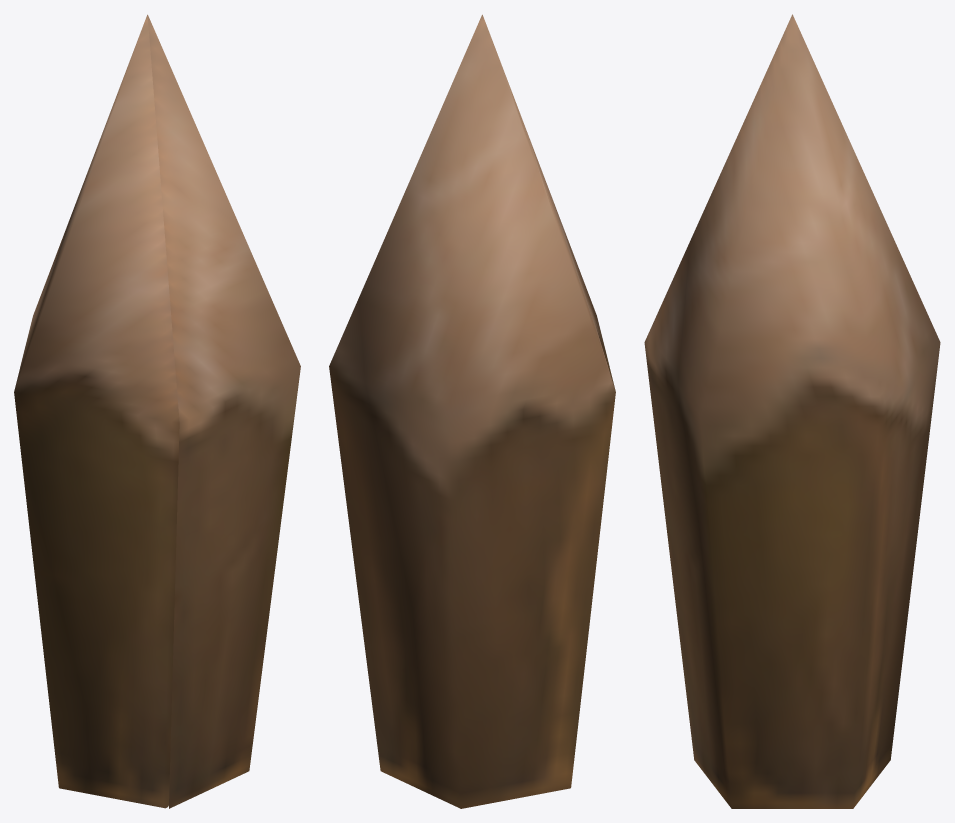
The model's file is desert_fence.FBX.
The picture shows the model from 3 angles, left to right: view 1: azimuth 30°, elevation 25°; view 2: azimuth 150°, elevation 25°; view 3: azimuth 270°, elevation 25°; orthographic projection.
Visible parts, largest first — view 1: Object099; view 2: Object099; view 3: Object099.
Part boxes in pixels (<box>): Object099: <box>14,14,300,808</box>; Object099: <box>329,14,615,808</box>; Object099: <box>644,14,940,808</box>.
Bounding box in the file's own units: 8.44 × 8.88 × 25.13.
